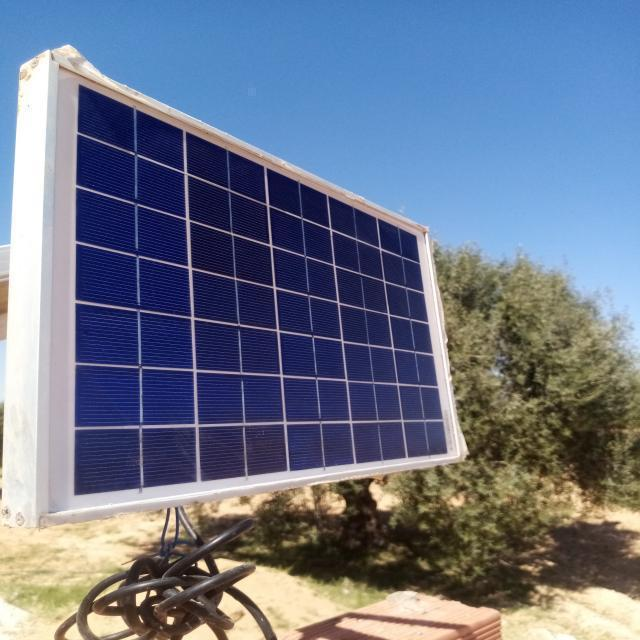Normal Solar Panel: (38, 57, 464, 525)
